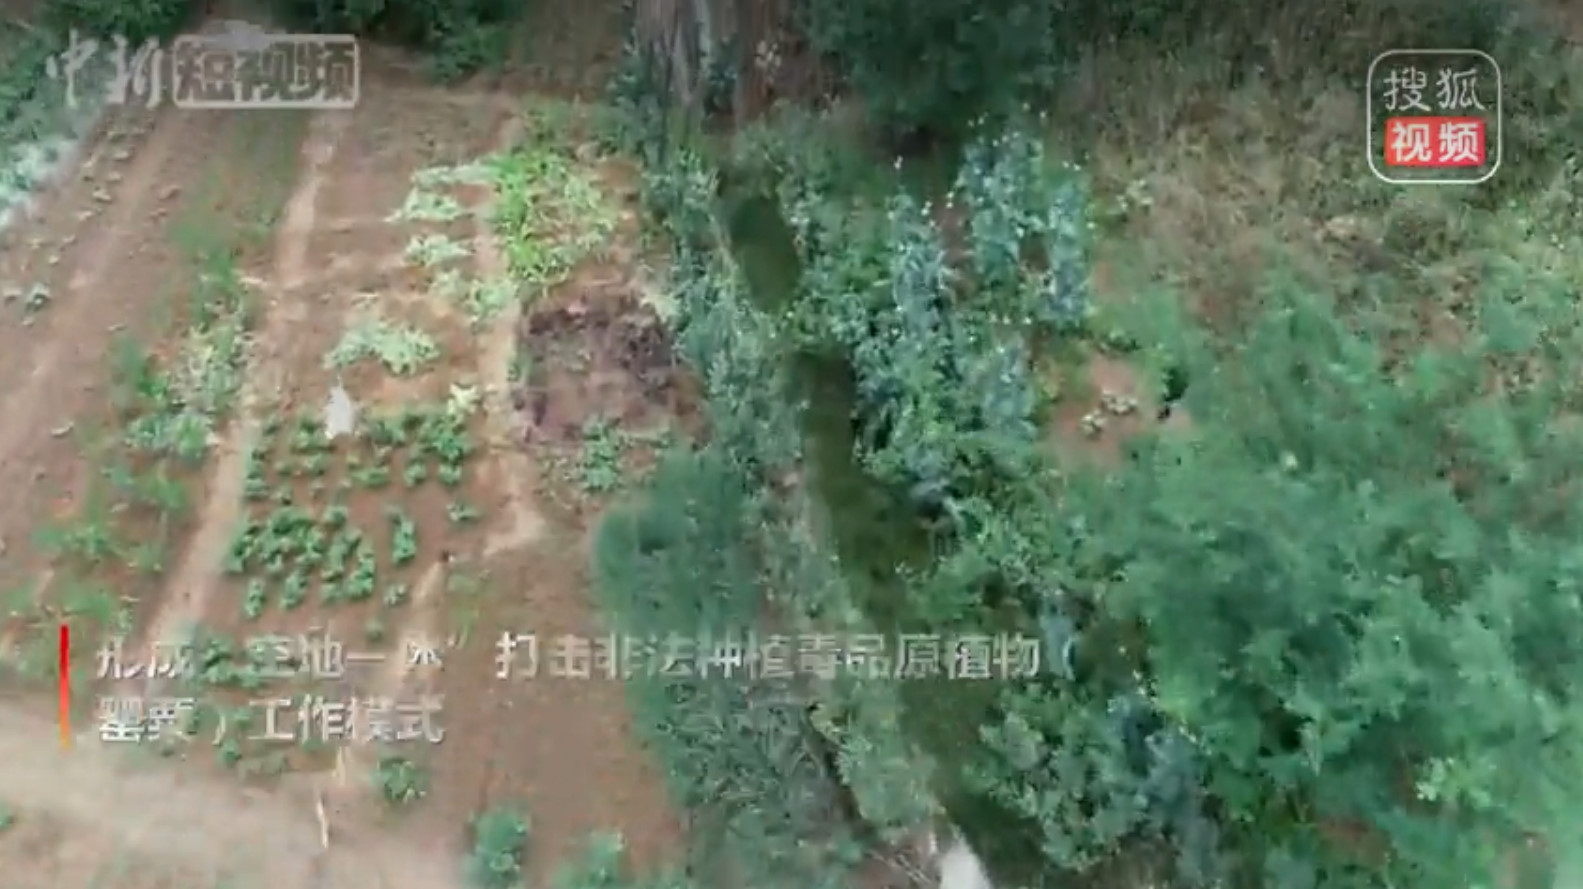Poppy: (865, 93, 1104, 460)
